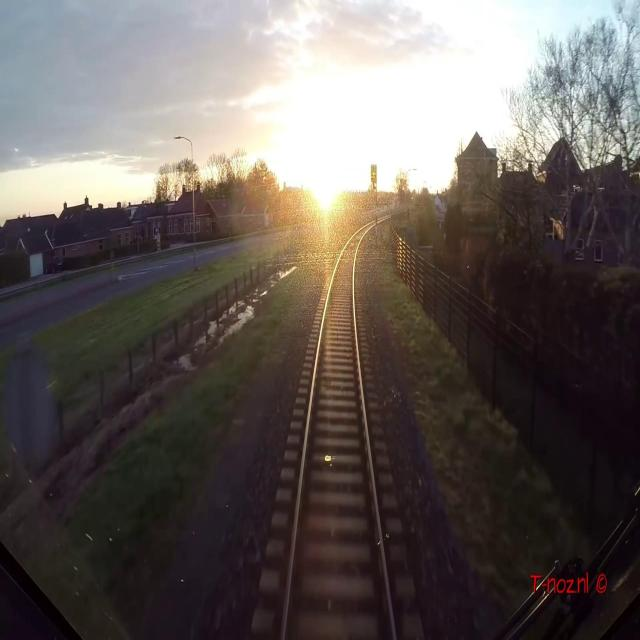rail-track: (284, 221, 392, 639)
